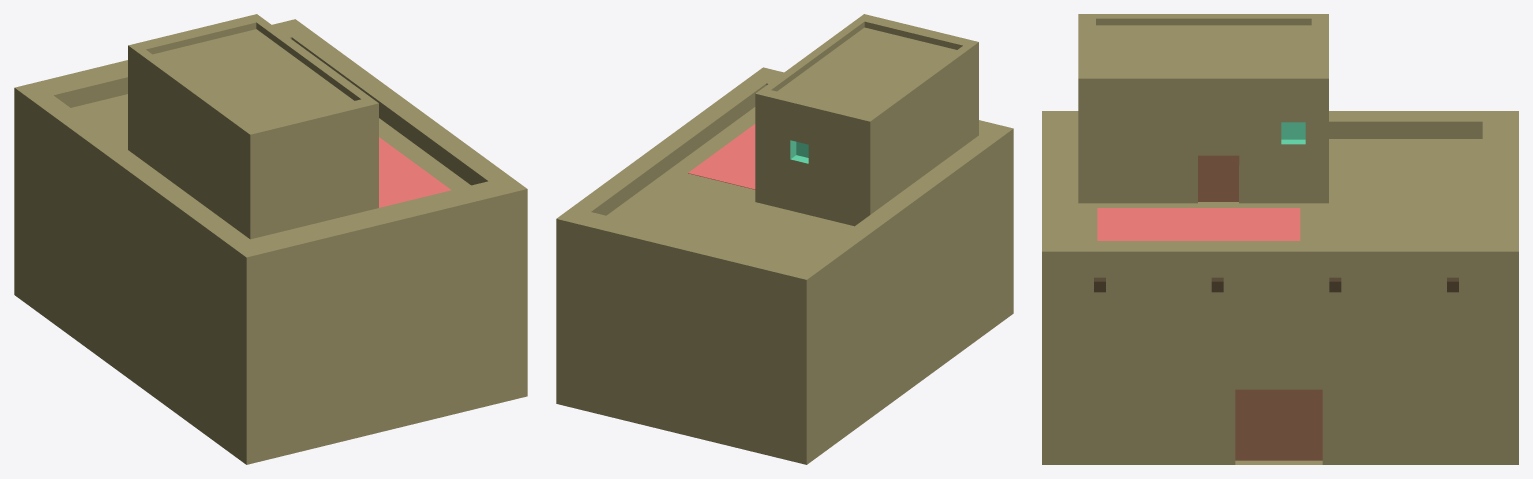
Rendered from Hovel2_Colored.fbx.
3 views of the same model, side by side, from view 1: azimuth 30°, elevation 25°; view 2: azimuth 150°, elevation 25°; view 3: azimuth 270°, elevation 25° (orthographic). The views are drawn at different scales.
Visible parts, largest first — view 1: Cube, Plane; view 2: Cube, Plane; view 3: Cube, Plane.
Part boxes in pixels (x1=…): Cube: x1=14, y1=14, x2=527, y2=464; Plane: x1=379, y1=137, x2=451, y2=207; Cube: x1=556, y1=14, x2=1013, y2=464; Plane: x1=688, y1=124, x2=755, y2=189; Cube: x1=1042, y1=14, x2=1518, y2=464; Plane: x1=1097, y1=208, x2=1300, y2=240.
Bounding box in the file's own units: 291 × 301 × 405.
